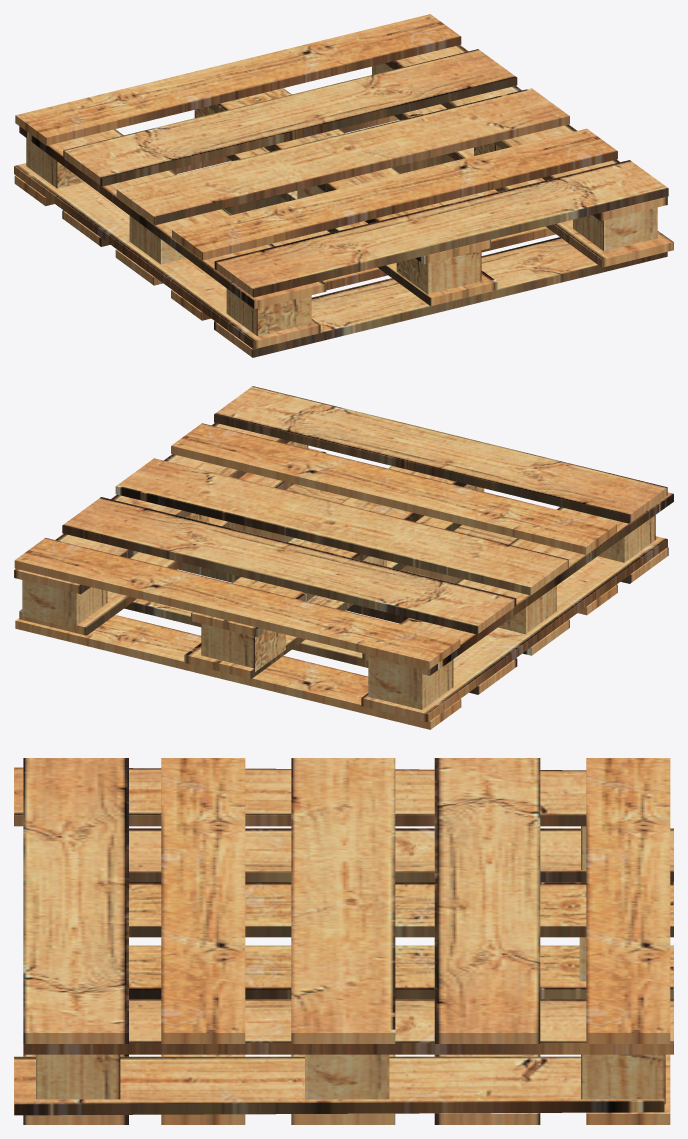
The model's file is Parley.fbx.
The picture shows the model from 3 angles, top to bottom: view 1: azimuth 30°, elevation 25°; view 2: azimuth 150°, elevation 25°; view 3: azimuth 270°, elevation 25°; orthographic projection. The views are drawn at different scales.
Visible parts, largest first — view 1: Parley; view 2: Parley; view 3: Parley.
Part boxes in pixels (<box>): Parley: <box>14,14,673,357</box>; Parley: <box>14,386,673,729</box>; Parley: <box>14,758,673,1124</box>.
Bounding box in the file's own units: 101 × 15.68 × 101.
Materials: 1 (1 with a texture image).
